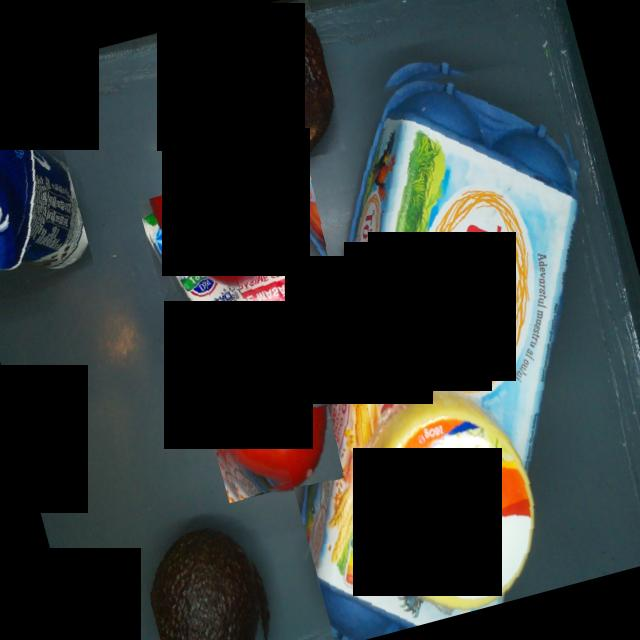avocado: (198, 0, 344, 167), (135, 517, 283, 640)
butter: (137, 156, 370, 433)
cheese: (359, 358, 571, 608)
eggs: (195, 28, 640, 640)
tomatoes: (183, 295, 359, 503)
yogurt: (0, 68, 95, 299)
